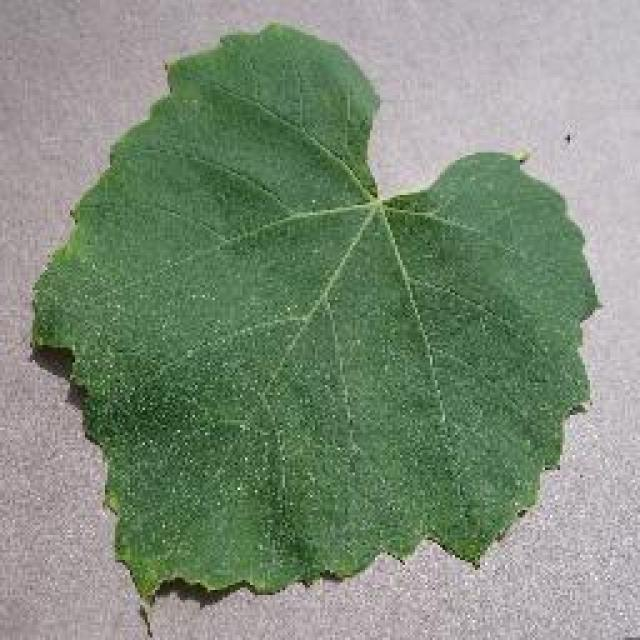Grape___healthy: (32, 25, 595, 602)
